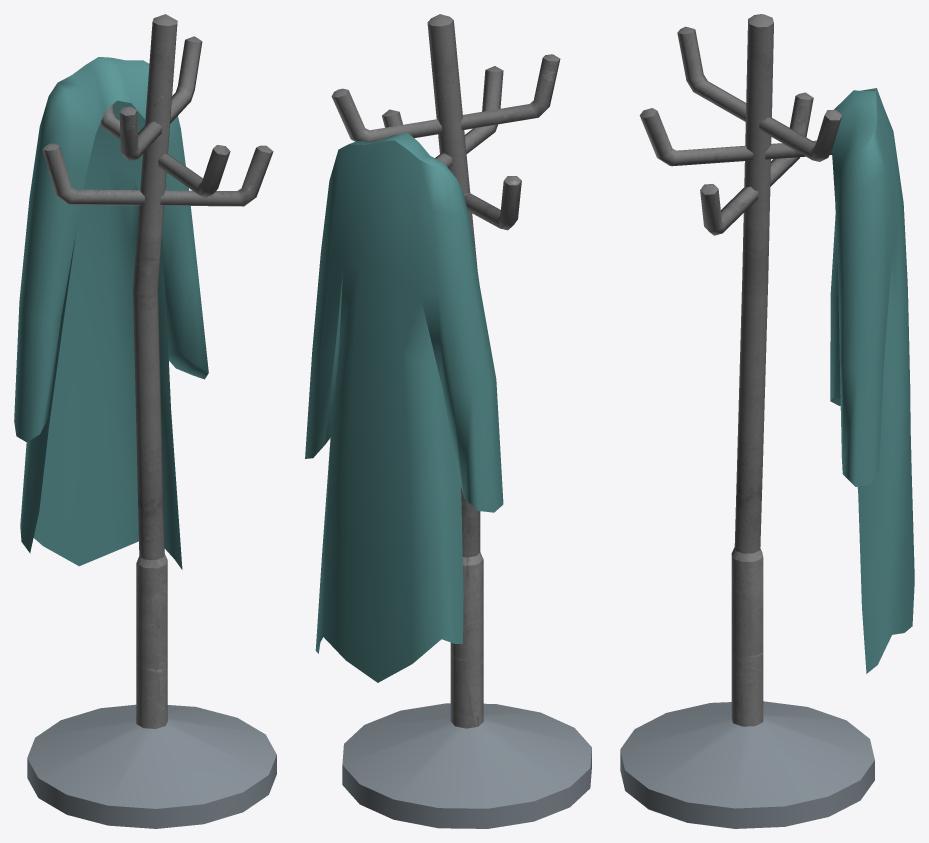
File: Hanger.fbx
3 renders of one model, left to right at view 1: azimuth 30°, elevation 25°; view 2: azimuth 150°, elevation 25°; view 3: azimuth 270°, elevation 25°, orthographic. The views are drawn at different scales.
Parts seen in each view (by area): view 1: Hanger; view 2: Hanger; view 3: Hanger.
Part boxes in pixels (bbox=[...]): Hanger: bbox=[14, 14, 276, 828]; Hanger: bbox=[305, 14, 591, 828]; Hanger: bbox=[620, 14, 914, 828].
Bounding box in the file's own units: 65.85 × 220 × 76.15.
